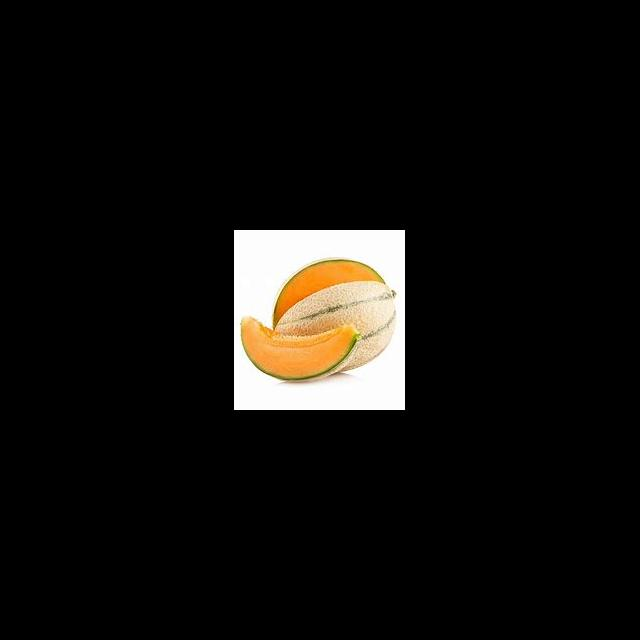Hami Melon: (274, 258, 397, 370), (241, 316, 357, 383)
